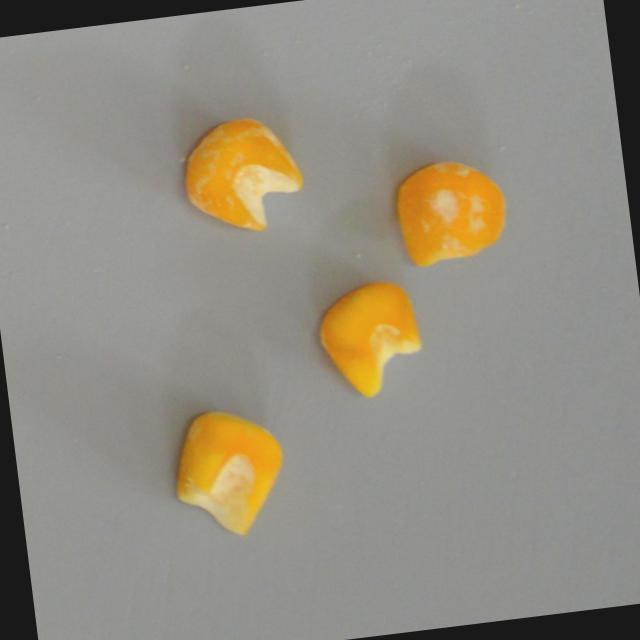no_canjicado: (312, 276, 427, 403)
pelicula: (166, 401, 293, 541), (175, 108, 307, 237), (390, 153, 513, 269)
